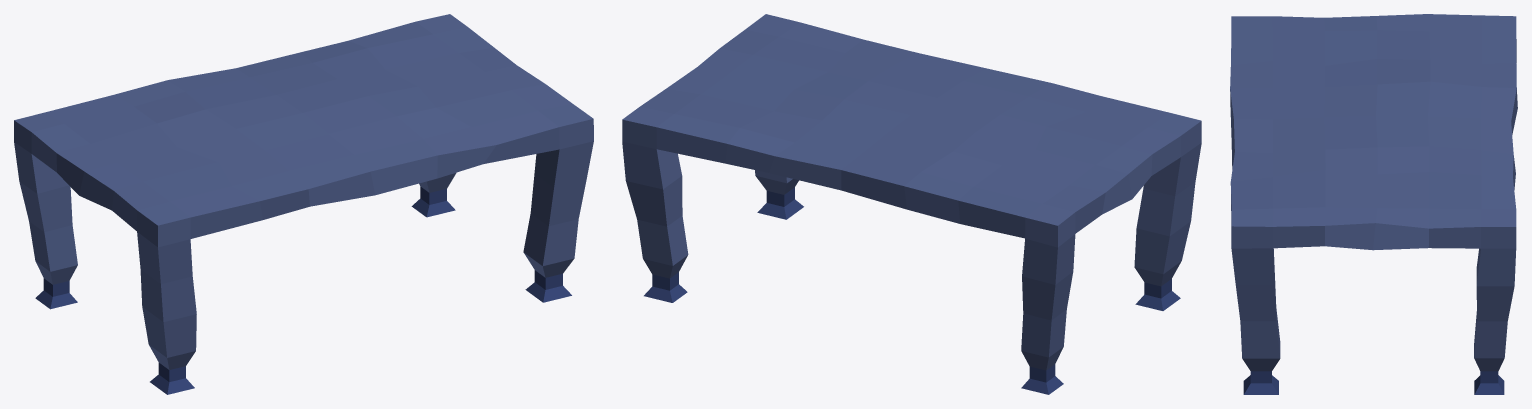
The model's file is TableGameOff2024-2.fbx.
3 views of the same model, side by side, from view 1: azimuth 30°, elevation 25°; view 2: azimuth 150°, elevation 25°; view 3: azimuth 270°, elevation 25° (orthographic).
Parts seen in each view (by area): view 1: SizeReference.002; view 2: SizeReference.002; view 3: SizeReference.002.
Part boxes in pixels (box(x1,y1,x2,y2)): SizeReference.002: box(14, 14, 593, 394); SizeReference.002: box(622, 14, 1201, 394); SizeReference.002: box(1230, 14, 1517, 394).
Size of the model in its own units: 3.58 by 2.02 by 1.41.
